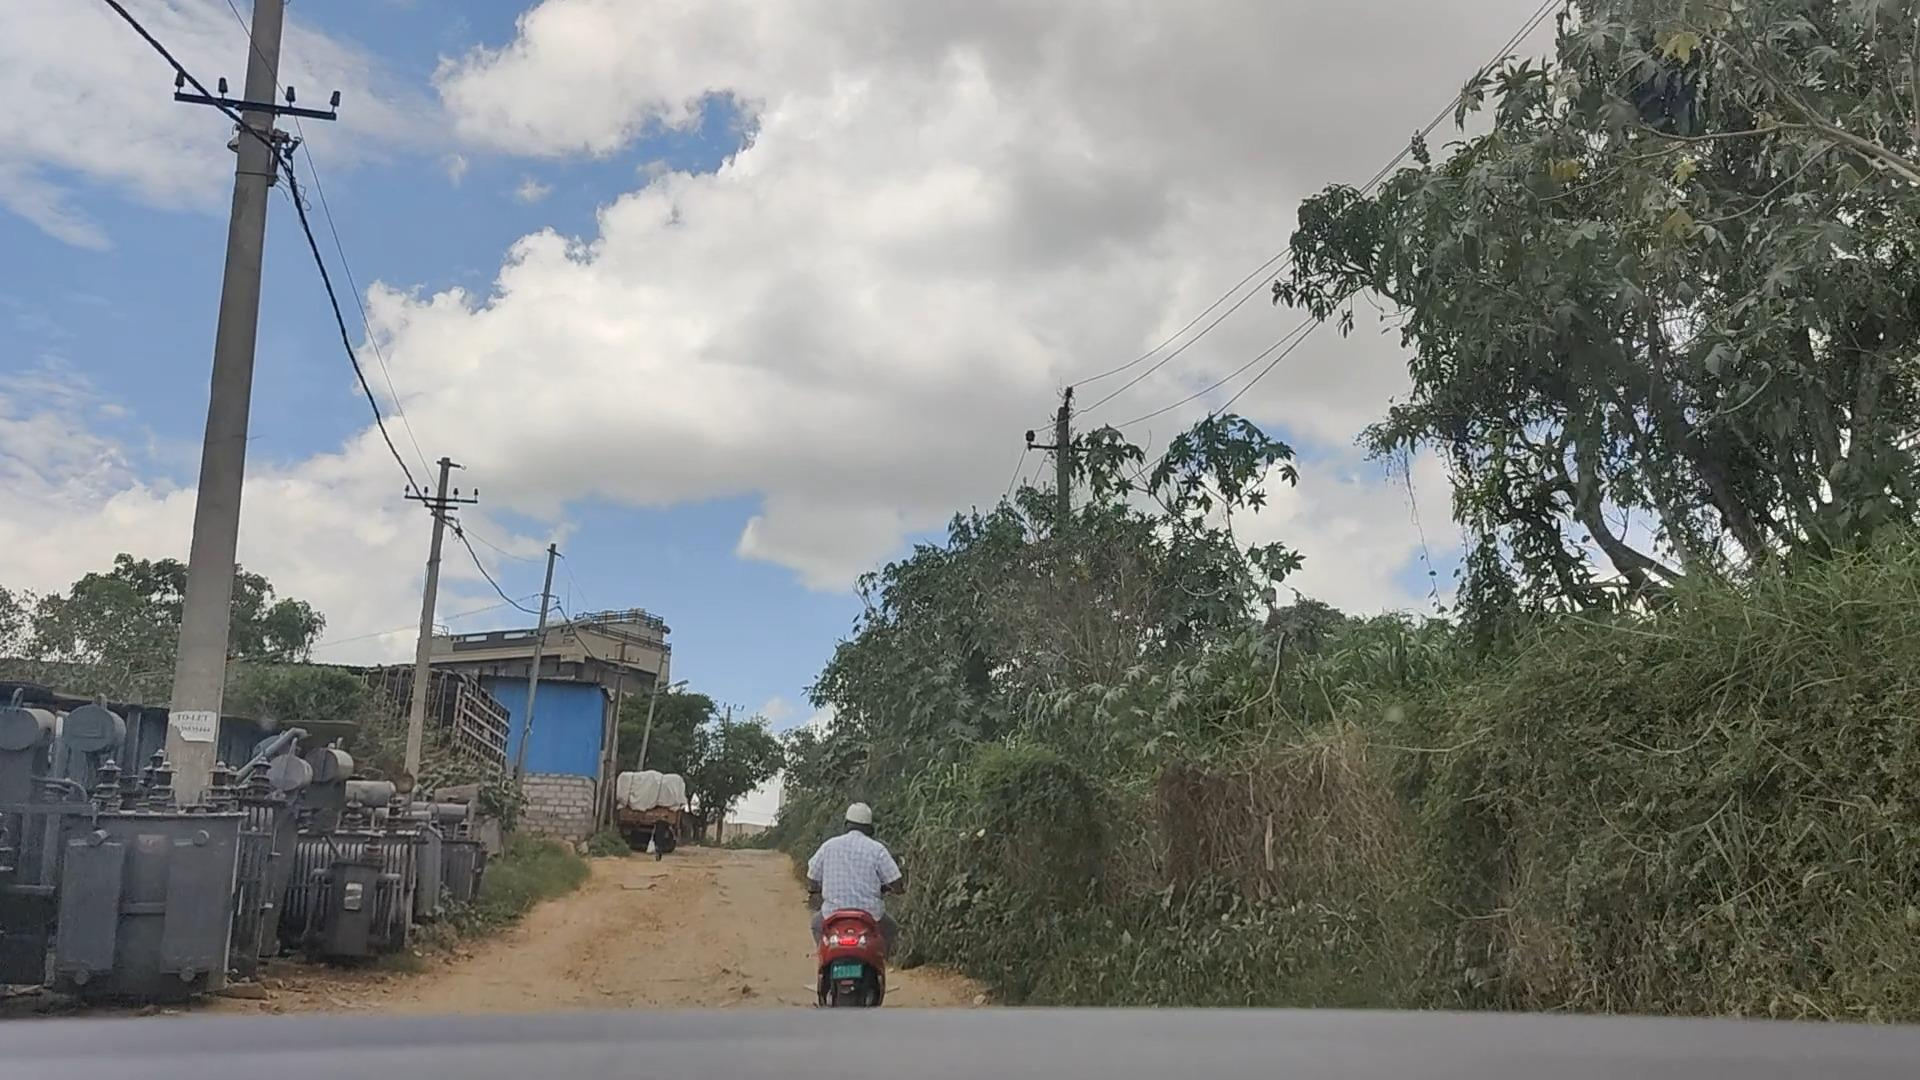HMV: (607, 762, 707, 881)
UnsurfacedRoad: (488, 906, 782, 1014)
